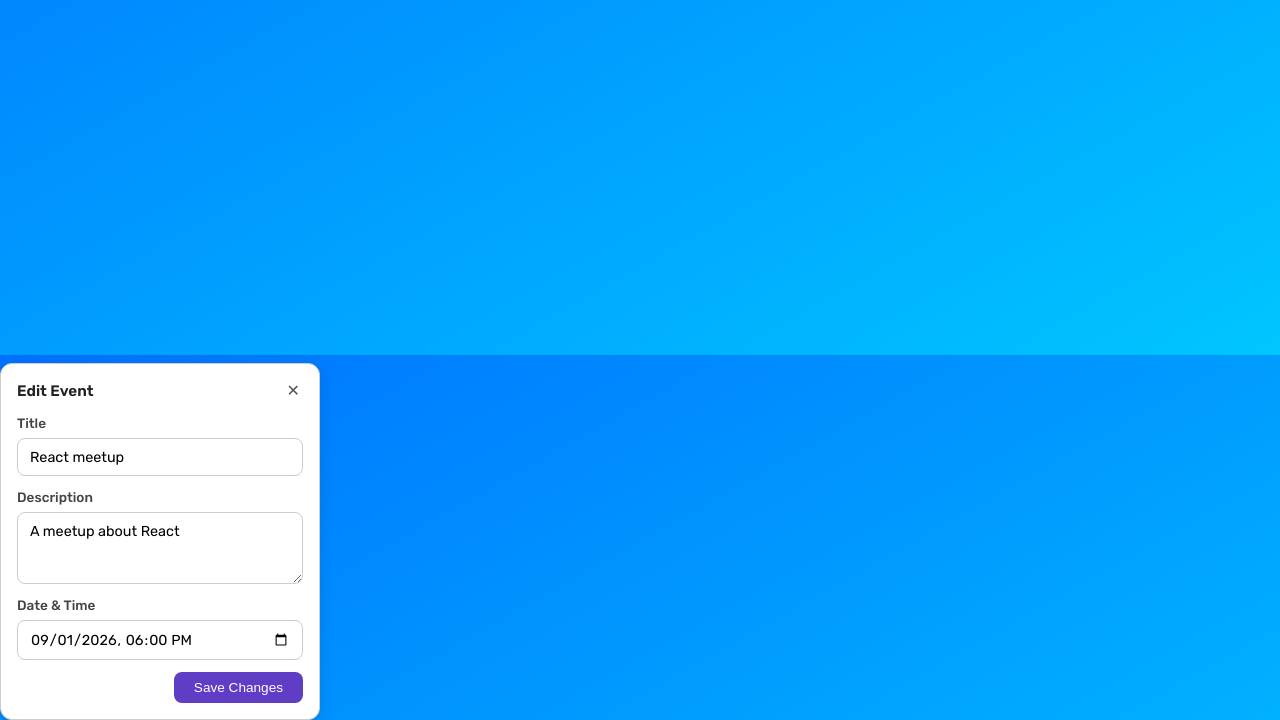
EditEventForm › shows the real backend error message when the update fails
(page scrolled)
Click the button "Save Changes": [238, 688] box [174,672,303,703]
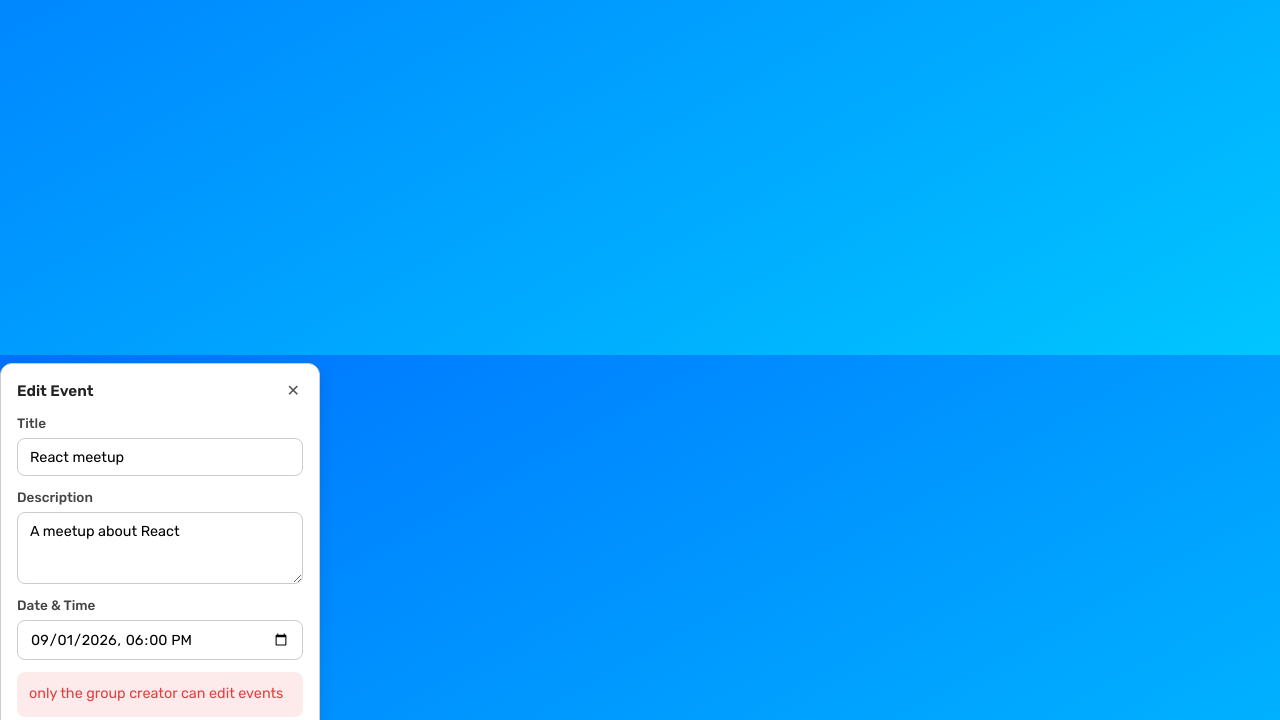
Result: the text "only the group creator can edit events" is shown at [17,672,303,717]
